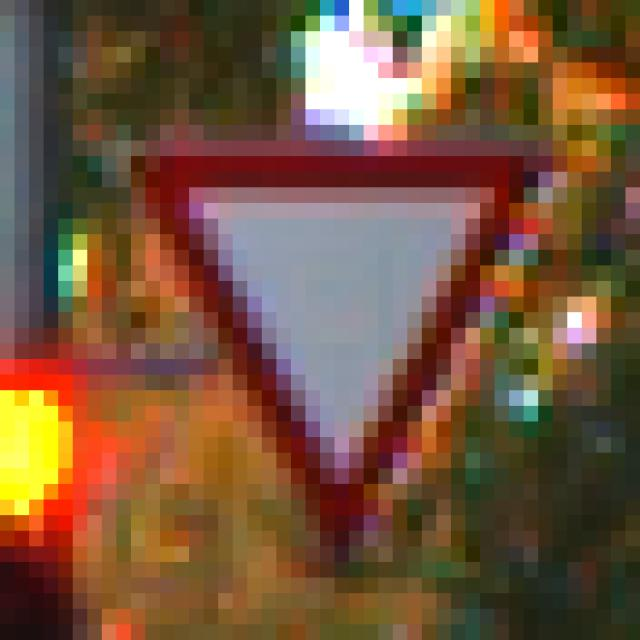Give Way: (88, 95, 554, 547)
